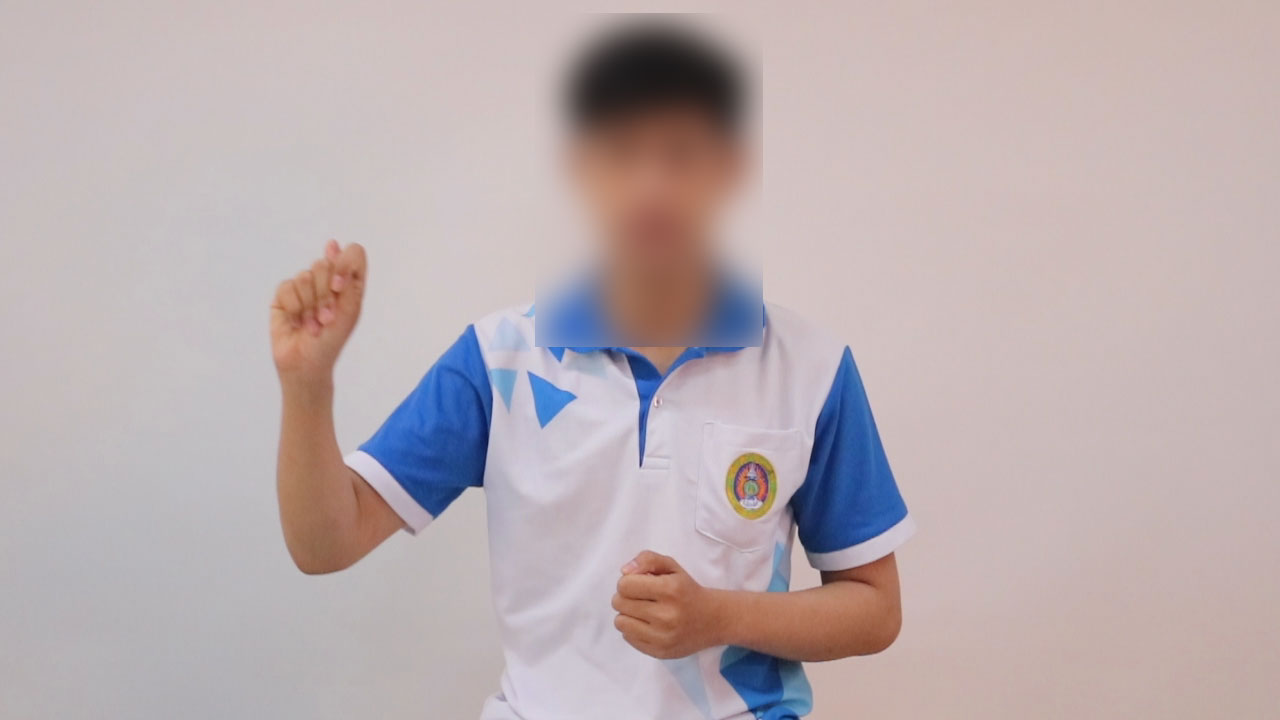tor: (254, 224, 383, 382)
